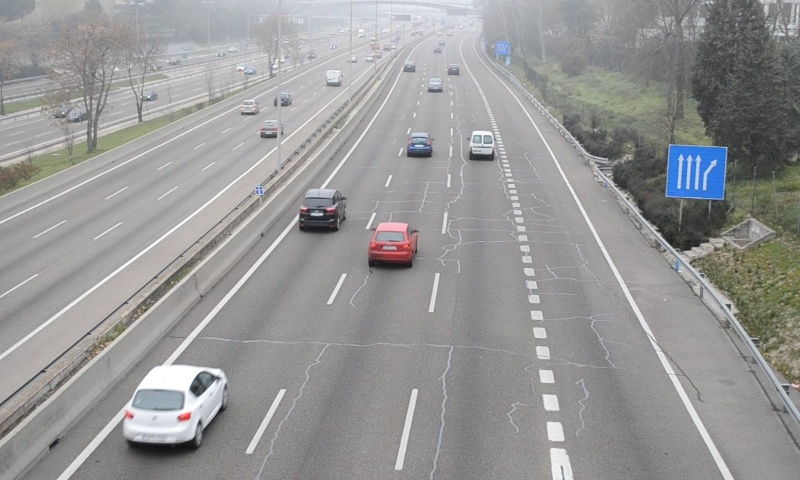car: (122, 365, 226, 445), (367, 222, 417, 264), (300, 189, 345, 228), (406, 133, 432, 158), (427, 77, 444, 93)
van: (468, 131, 496, 160)
